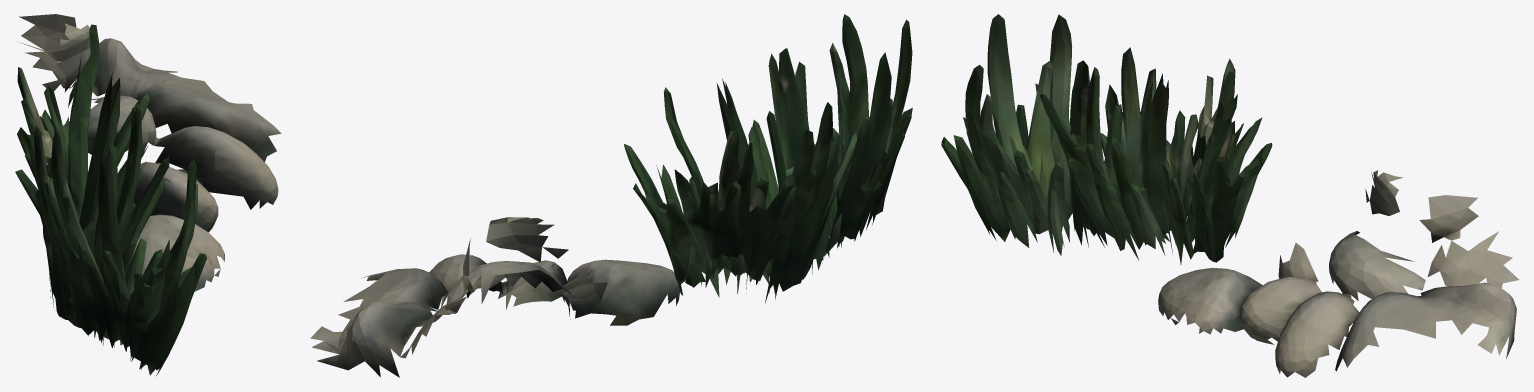
Rendered from terrain4_rock_2.glb.
3 views of the same model, side by side, from view 1: azimuth 30°, elevation 25°; view 2: azimuth 150°, elevation 25°; view 3: azimuth 270°, elevation 25° (orthographic). The views are drawn at different scales.
Visible parts, largest first — view 1: rock_2; view 2: rock_2; view 3: rock_2.
Boxes of the visible parts, x1,y1,x2,y2 form: rock_2: (15, 14, 281, 375); rock_2: (310, 14, 912, 377); rock_2: (941, 14, 1519, 377).
Bounding box in the file's own units: 20.71 × 12.66 × 29.95.
Materials: 1 (1 with a texture image).
